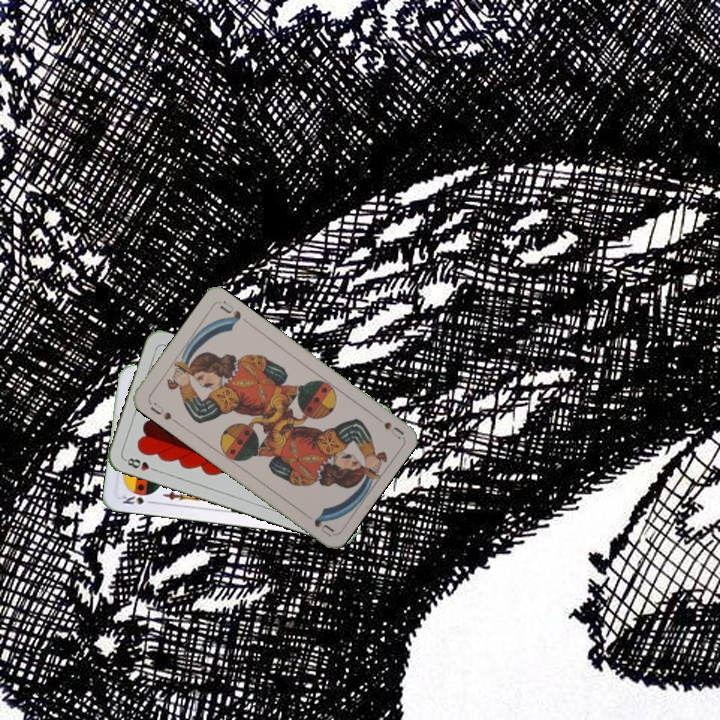H8: (121, 454, 160, 474)
SK: (118, 491, 157, 507)
SU: (368, 410, 405, 441), (146, 398, 180, 426)
